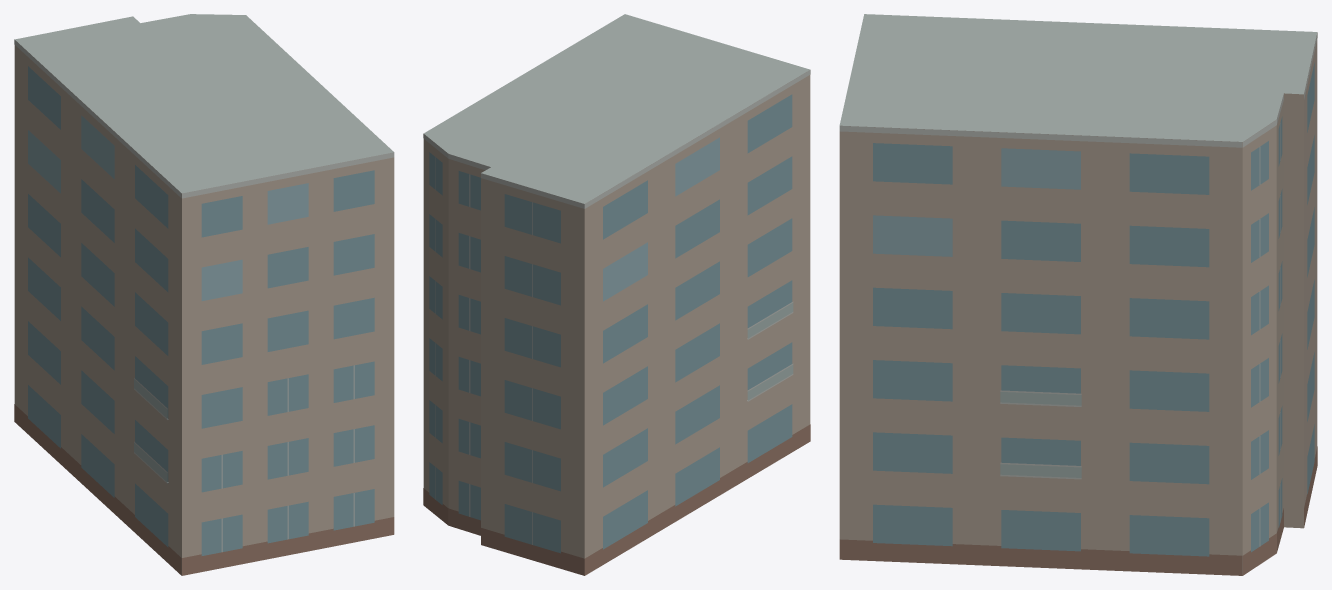
The model's file is survey-upis-32577702.glb.
3 renders of one model, left to right at view 1: azimuth 30°, elevation 25°; view 2: azimuth 150°, elevation 25°; view 3: azimuth 270°, elevation 25°, orthographic. The views are drawn at different scales.
Parts seen in each view (by area): view 1: survey-upis-32577702.tmp; view 2: survey-upis-32577702.tmp; view 3: survey-upis-32577702.tmp.
Boxes of the visible parts, x1,y1,x2,y2 form: survey-upis-32577702.tmp: (14, 14, 394, 575); survey-upis-32577702.tmp: (423, 14, 810, 575); survey-upis-32577702.tmp: (839, 14, 1317, 575).
Size of the model in its own units: 11.58 by 18.3 by 18.28.
